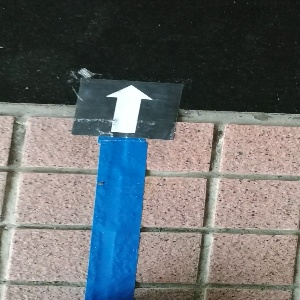straight: (74, 76, 183, 140)
